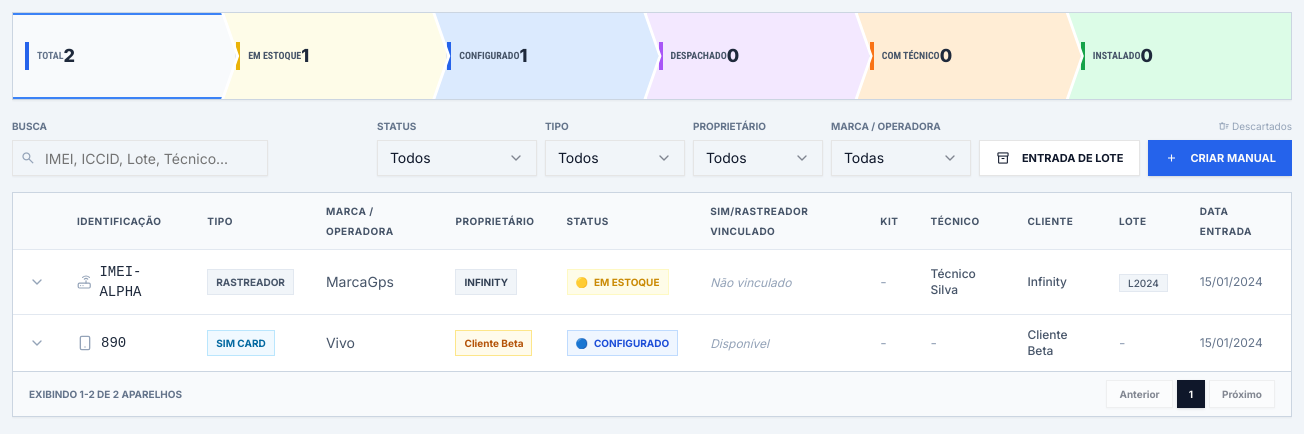
Test: AparelhosPage (fluxo integrado) › edge: busca sem match mostra vazio
Expected: the row with test id "aparelho-row-1" is shown, [13,250,1291,314]
Type "não-existe-xyz" into the field with test id "aparelhos-busca-input".
click(140, 158); type("não-existe-xyz")  # box [12,140,268,176]
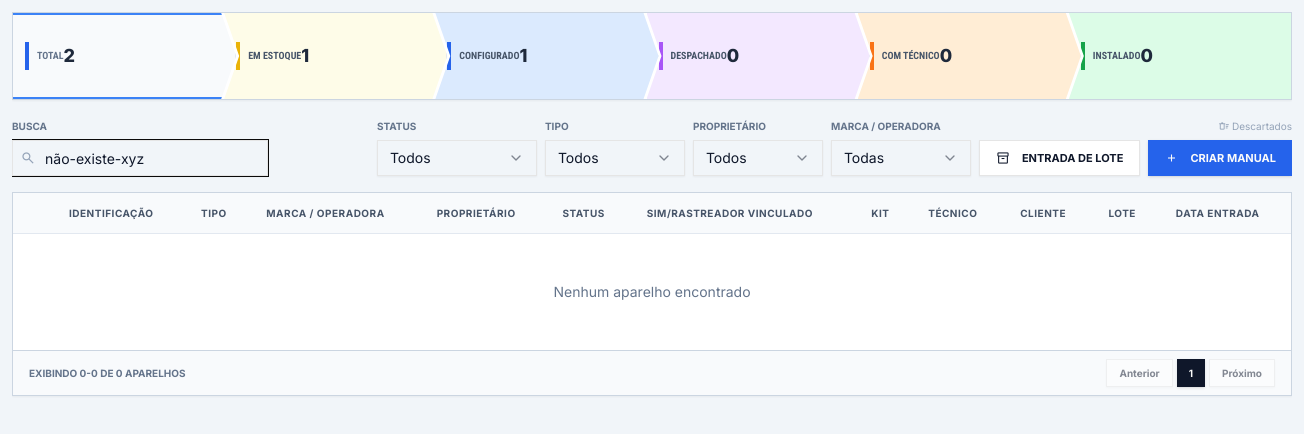
Expected: the cell with test id "aparelhos-empty" is shown, [13,233,1291,350]
